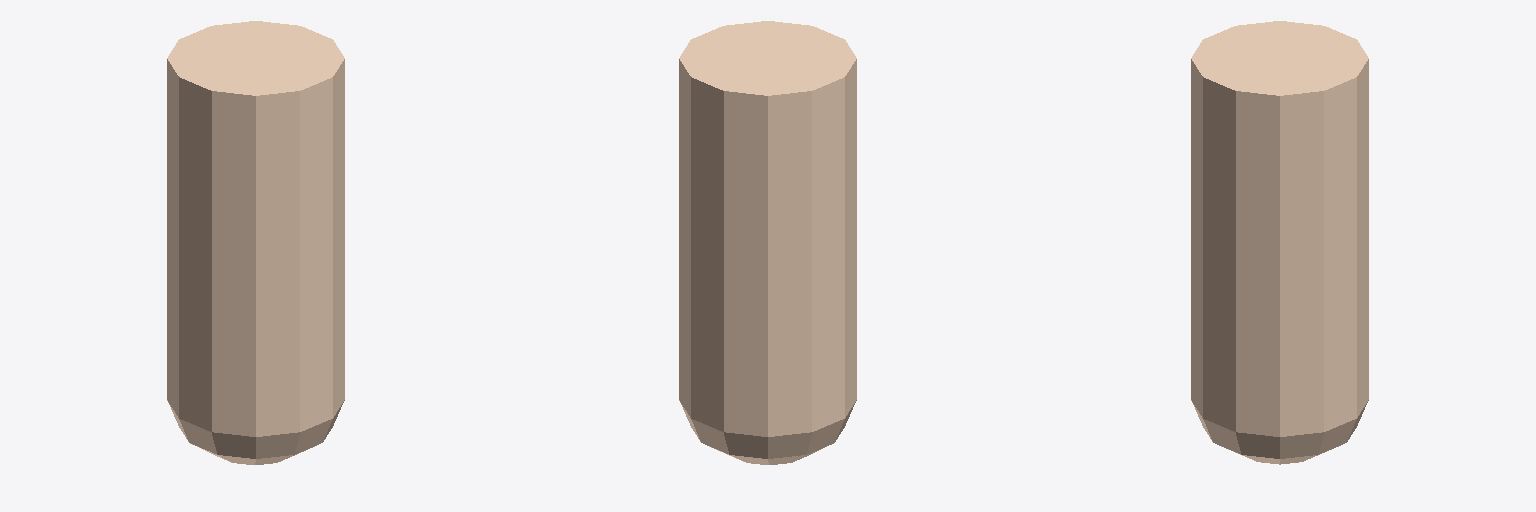
The picture shows the model from 3 angles: view 1: azimuth 30°, elevation 25°; view 2: azimuth 150°, elevation 25°; view 3: azimuth 270°, elevation 25°; orthographic projection.
Bounding box in the file's own units: 0.2721 × 0.667 × 0.2721.
Materials: 1 (1 with a texture image).